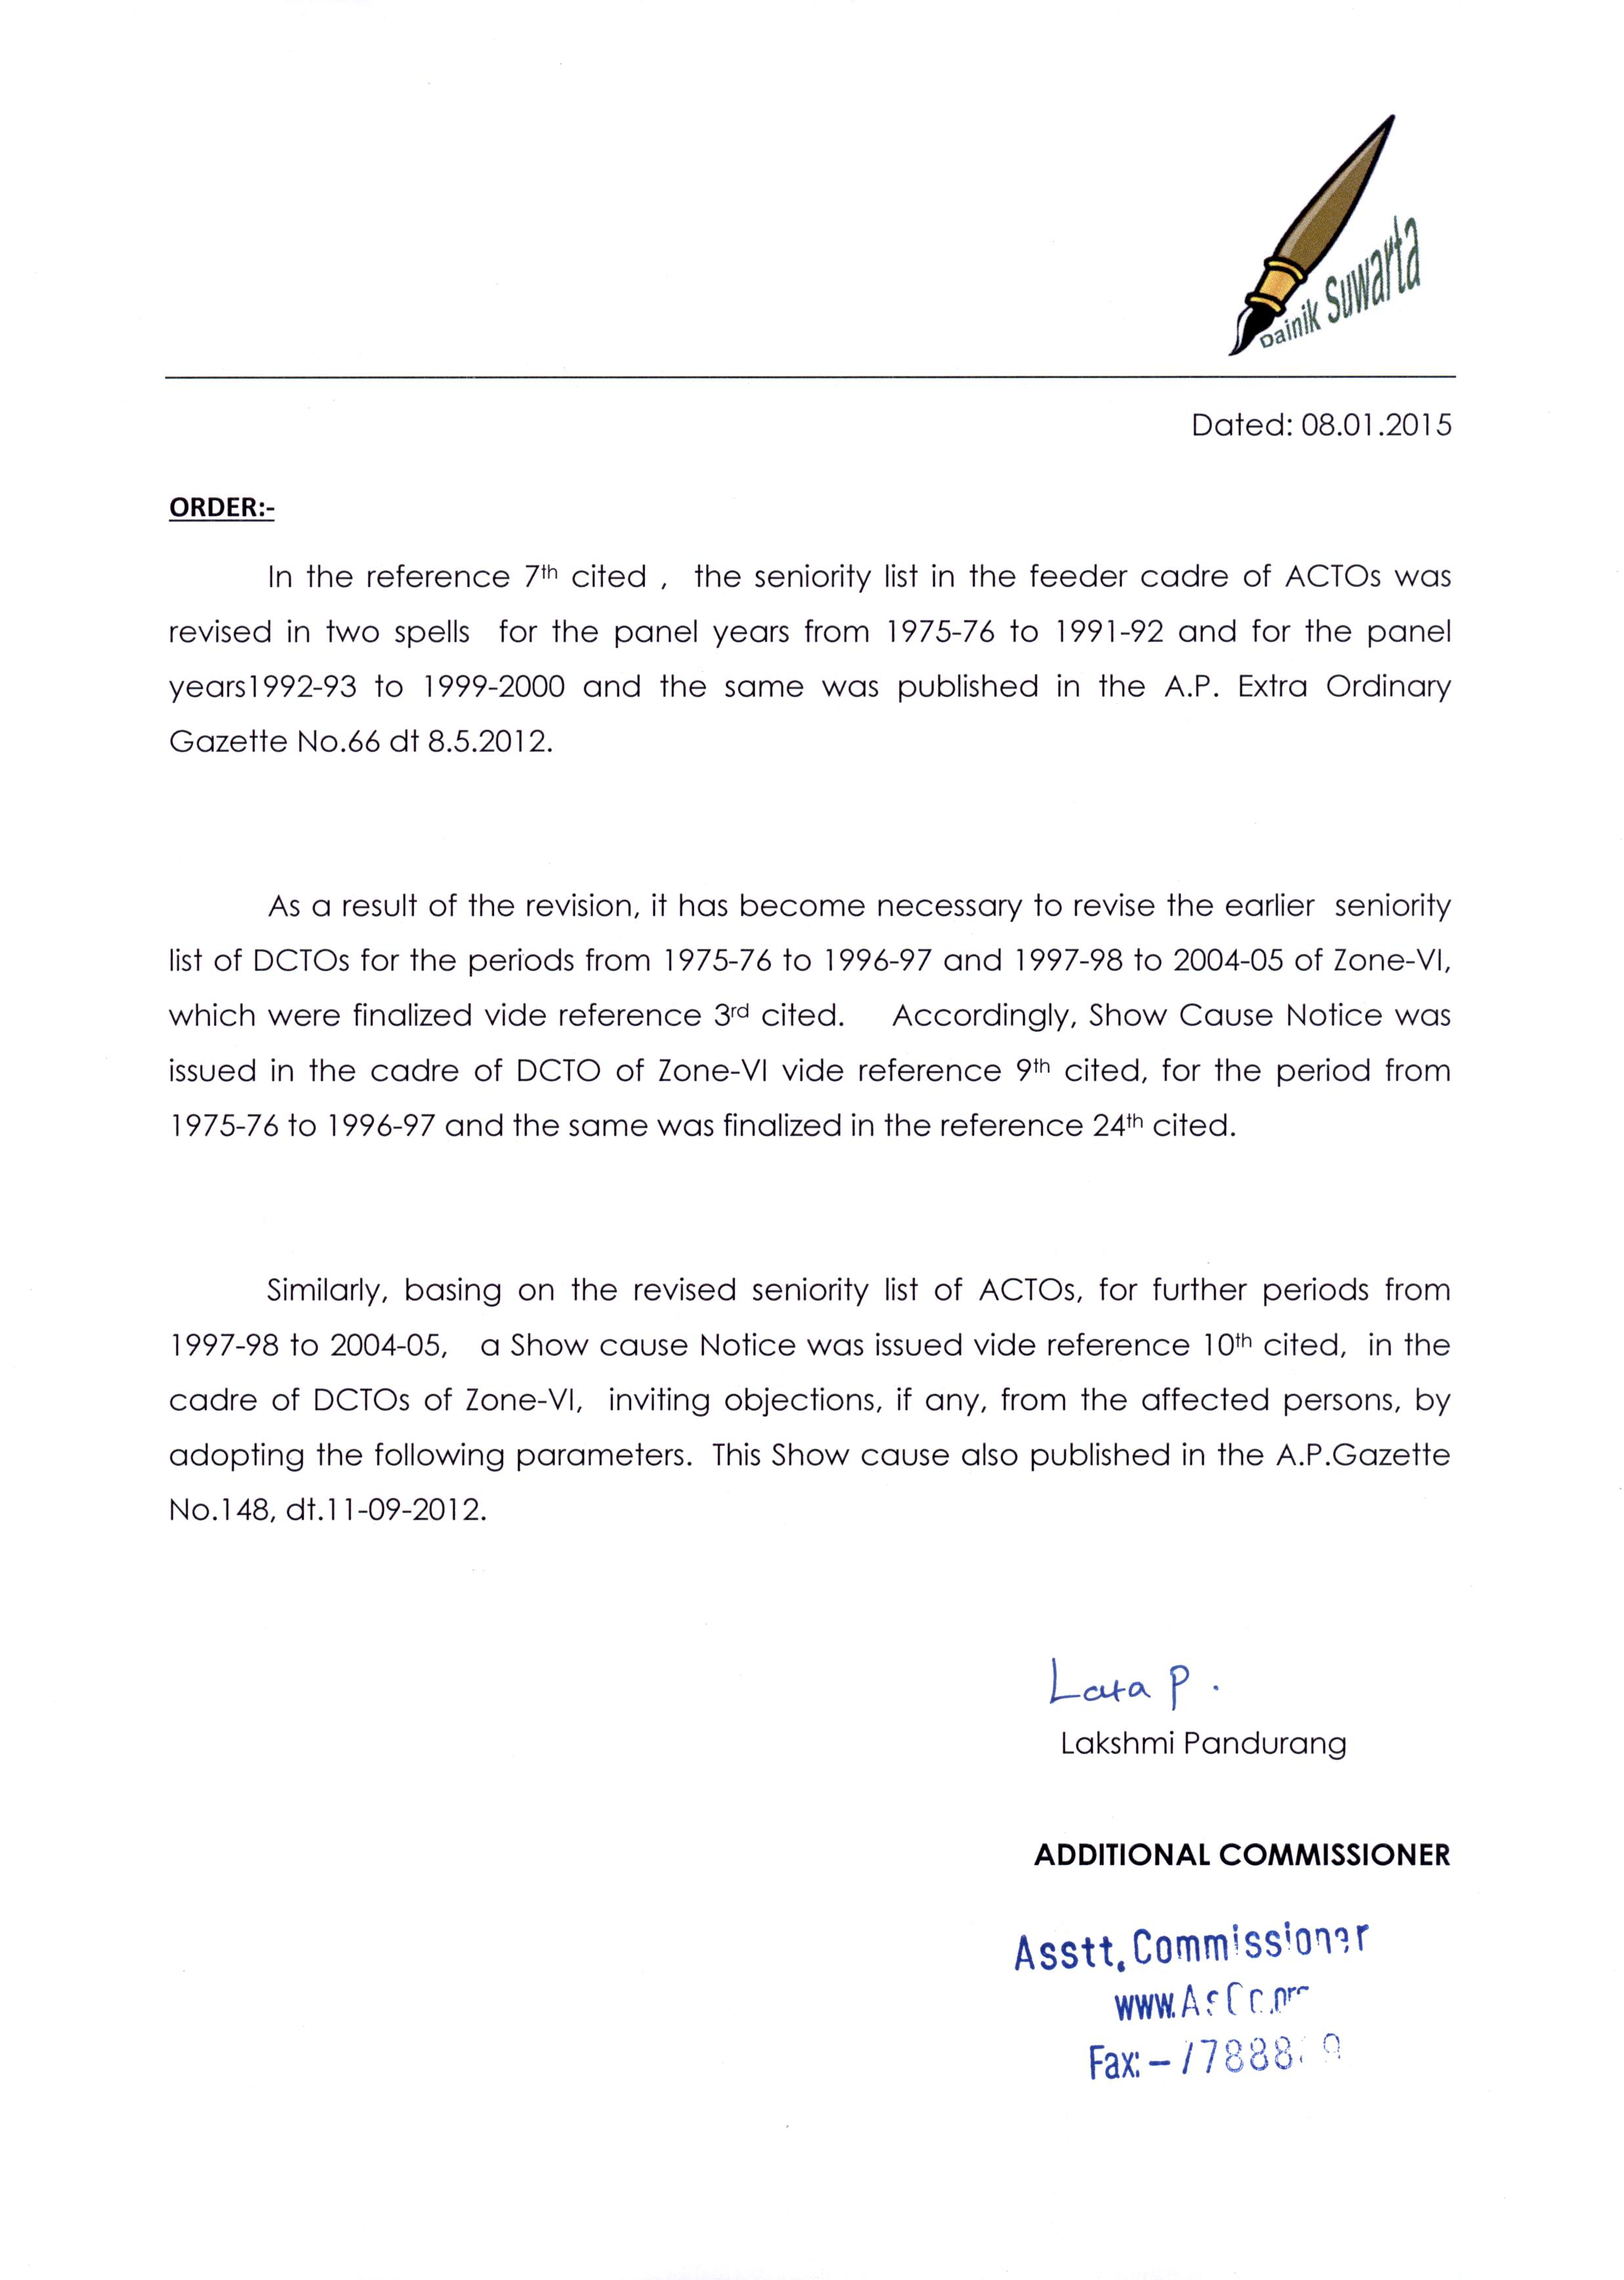Signature: (1026, 1644, 1236, 1714)
